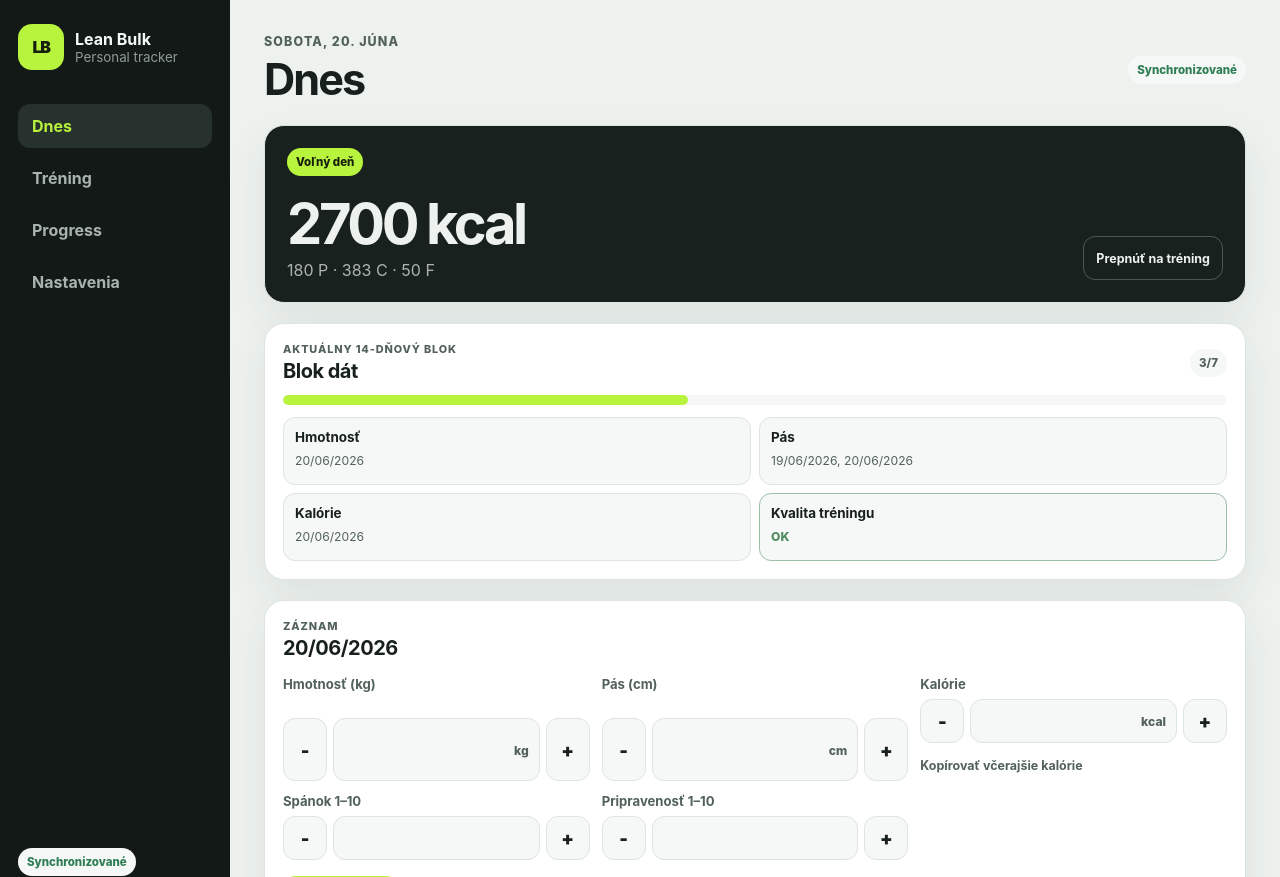
Test: App demo mode › shows block completeness and copies previous day calories
Check: the heading "Blok dát" is shown, box left=283, top=359, right=358, bottom=383
Check: the text "Pás" is shown, box left=771, top=429, right=795, bottom=445
Click the button "Kopírovať včerajšie kalórie". click: (1001, 765)
box: left=920, top=749, right=1083, bottom=781
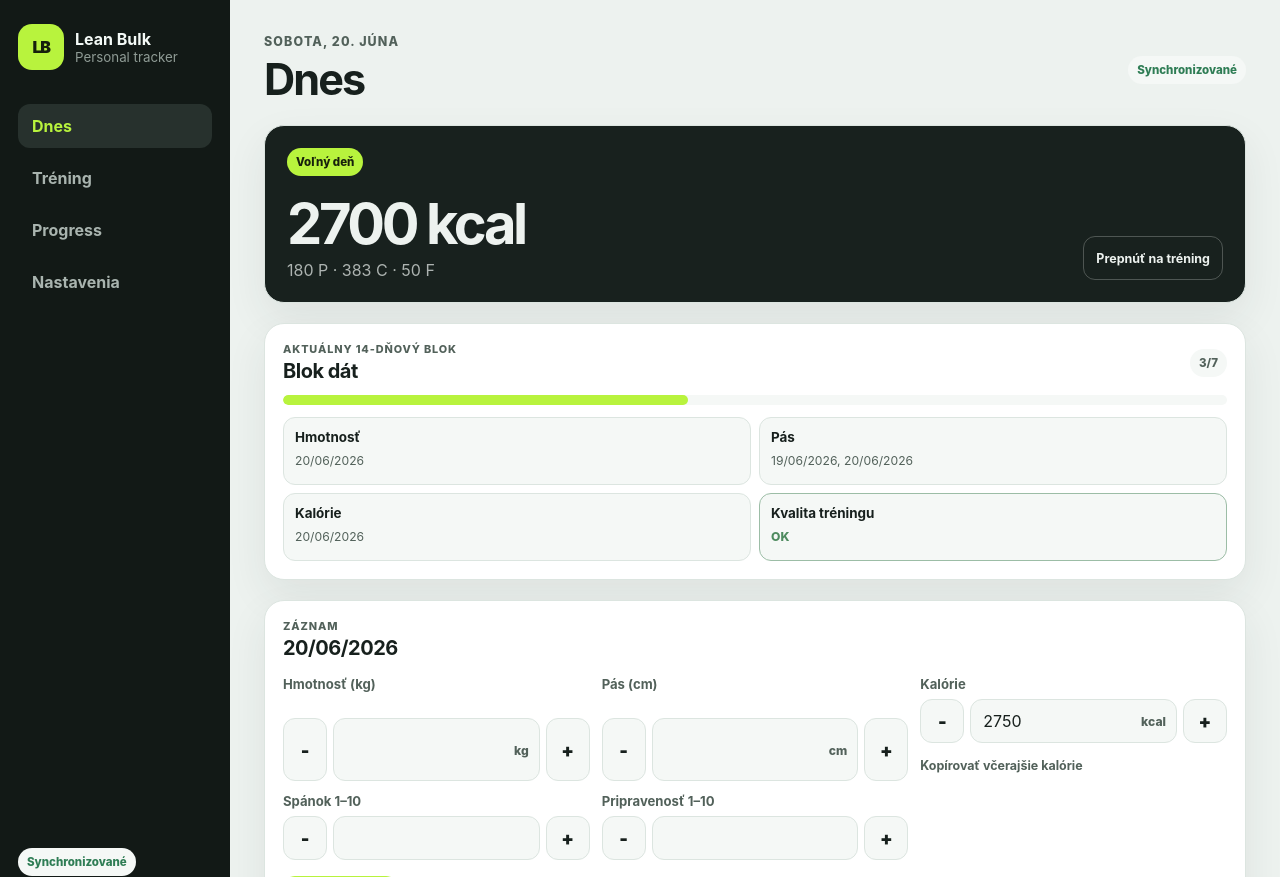
Check: the number field labelled "Kalórie" holds "2750", box left=970, top=699, right=1177, bottom=743
